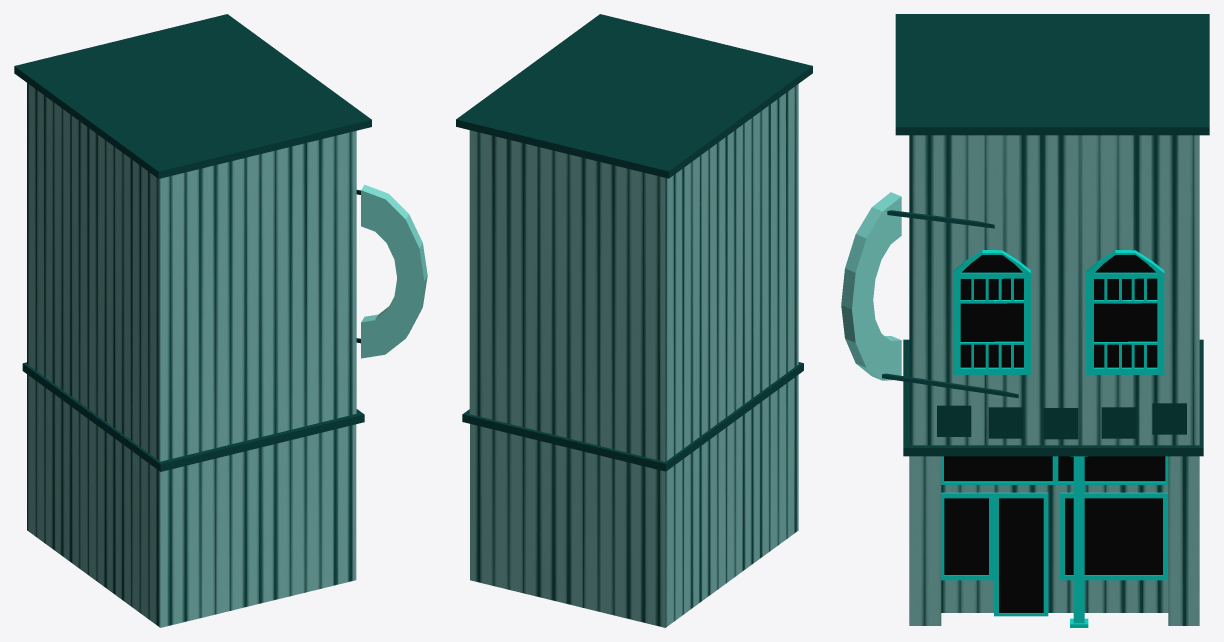
File: building4.fbx
3 renders of one model, left to right at view 1: azimuth 30°, elevation 25°; view 2: azimuth 150°, elevation 25°; view 3: azimuth 270°, elevation 25°, orthographic. The views are drawn at different scales.
Parts seen in each view (by area): view 1: Cube.037, Cube.046, Cylinder, Cube.038; view 2: Cube.037, Cube.046, Cube.038; view 3: Cube.037, Cube.046, Cylinder, Cube.065, Cube.066, Cube.067, Cube.064, Cube.063, Cube.038, Cube.041, Cube.040, Cube.062 (+12 smaller).
Part boxes in pixels (left/top/right/bottom): Cube.037: left=27, top=83, right=356, bottom=627; Cube.046: left=14, top=14, right=371, bottom=178; Cylinder: left=361, top=184, right=427, bottom=358; Cube.038: left=22, top=362, right=364, bottom=471; Cube.037: left=469, top=84, right=798, bottom=627; Cube.046: left=456, top=14, right=812, bottom=178; Cube.038: left=462, top=362, right=803, bottom=471; Cube.037: left=909, top=135, right=1199, bottom=625; Cube.046: left=895, top=14, right=1209, bottom=135; Cylinder: left=841, top=192, right=901, bottom=380; Cube.065: left=1065, top=498, right=1162, bottom=574; Cube.066: left=960, top=255, right=1023, bottom=367; Cube.067: left=1094, top=255, right=1157, bottom=367; Cube.064: left=944, top=456, right=1165, bottom=481; Cube.063: left=999, top=498, right=1043, bottom=612; Cube.038: left=903, top=339, right=1203, bottom=456; Cube.041: left=1086, top=250, right=1164, bottom=374; Cube.040: left=953, top=250, right=1030, bottom=374; Cube.062: left=944, top=498, right=988, bottom=574.
Bounding box in the file's own units: 1814 × 3237 × 2136.
